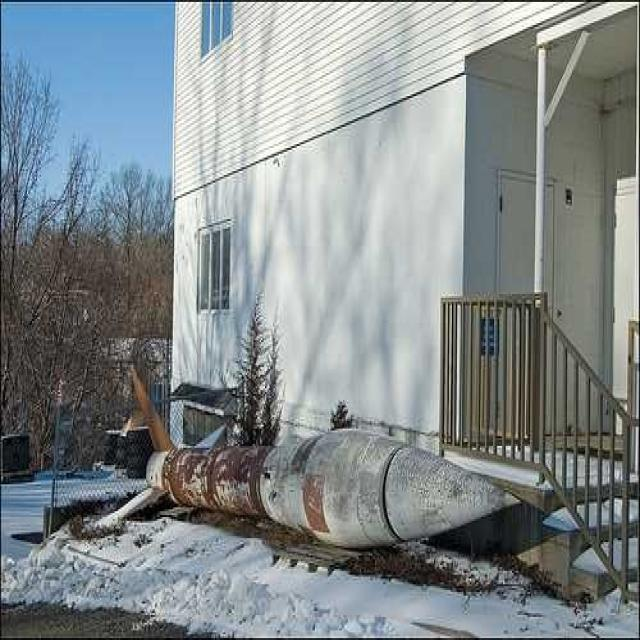missile: (80, 349, 521, 609)
